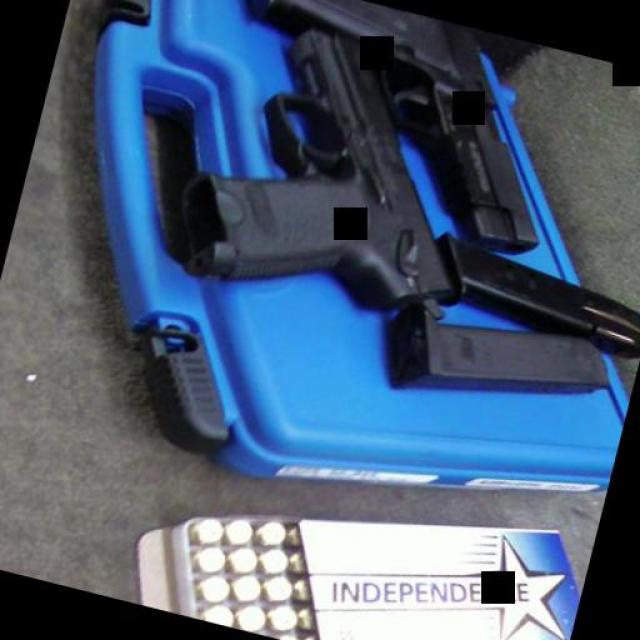gun: (158, 1, 502, 344), (186, 0, 585, 262)
